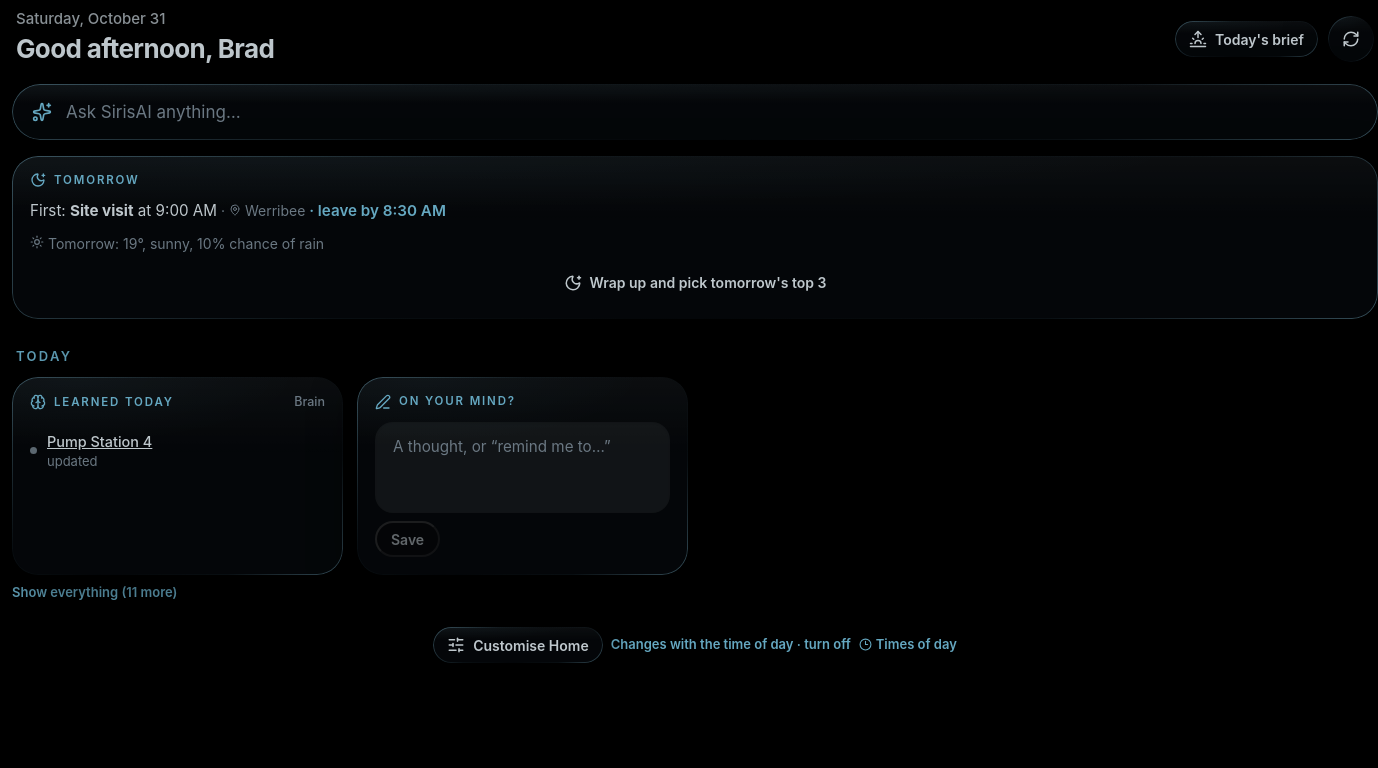
Home through the day › winds down to tomorrow, what the brain learned and a capture box, dimmed, with everything one tap away
expect the element "Tomorrow" shows "Site visit": met, box x1=70 y1=201 x2=134 y2=220
expect the element "Tomorrow" shows "Werribee": met, box x1=245 y1=202 x2=305 y2=219
Click the button "Show everything (11 more)". click: (95, 592)
box: x1=12 y1=579 x2=177 y2=606
(page scrolled)
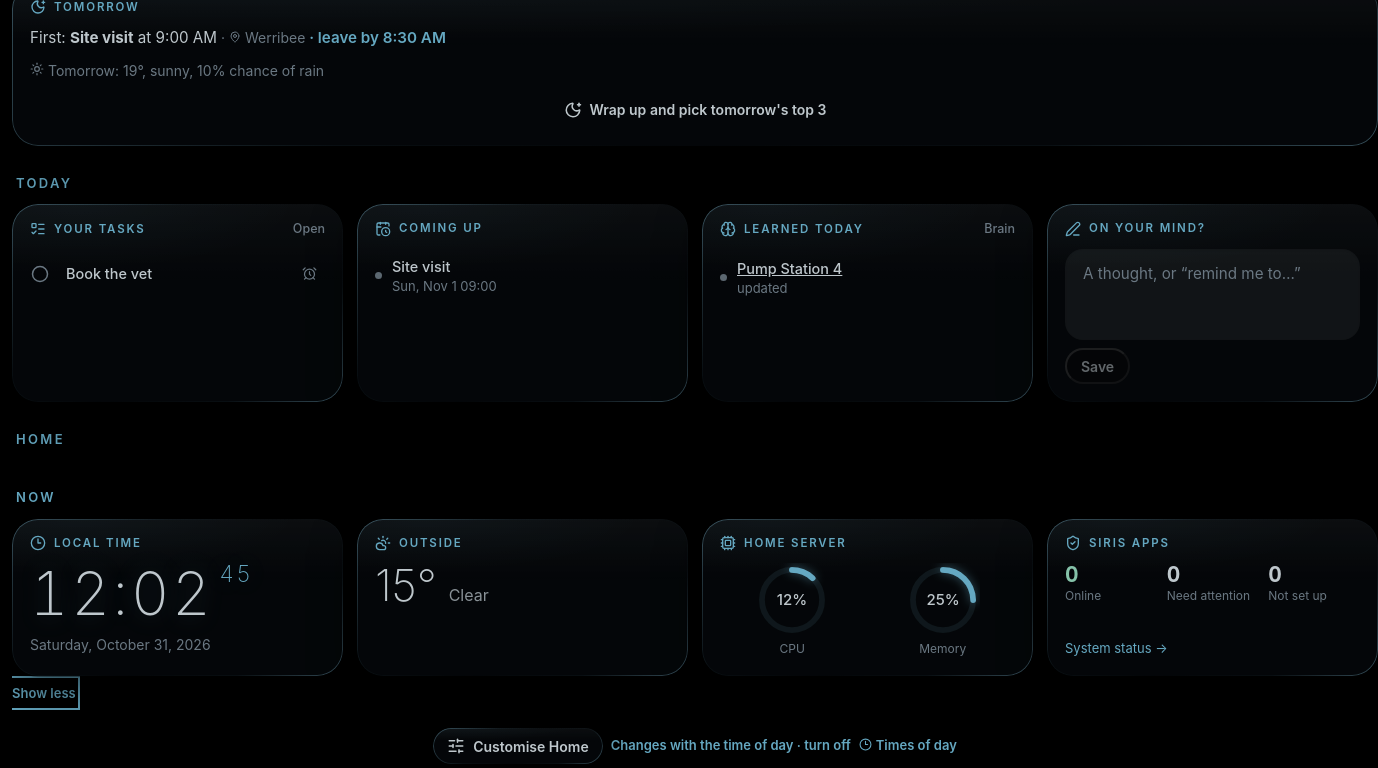
expect the element "tasks" is shown: met, box x1=12 y1=204 x2=343 y2=402
Click the button "Show less". click: (44, 693)
box: x1=12 y1=680 x2=76 y2=706
(page scrolled)
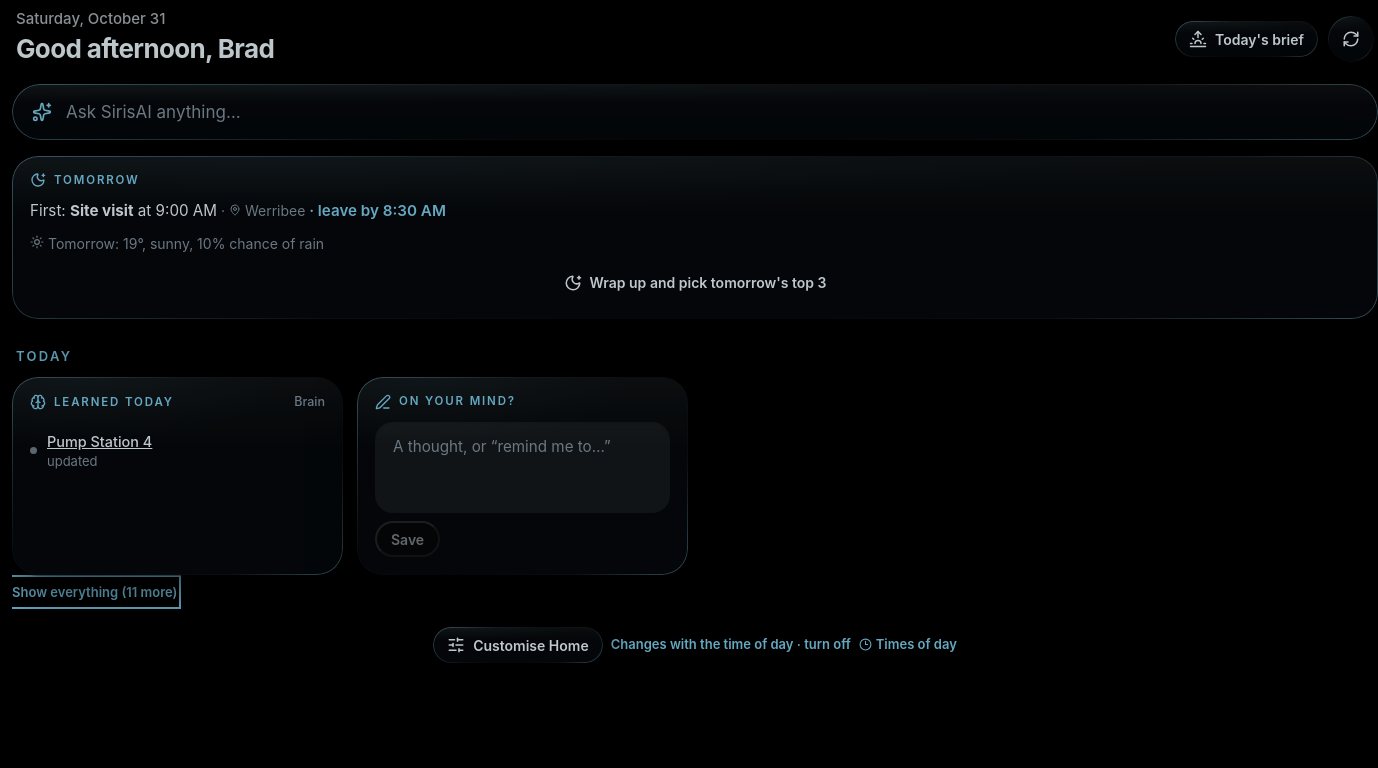
expect the text "tasks" is gone: met
